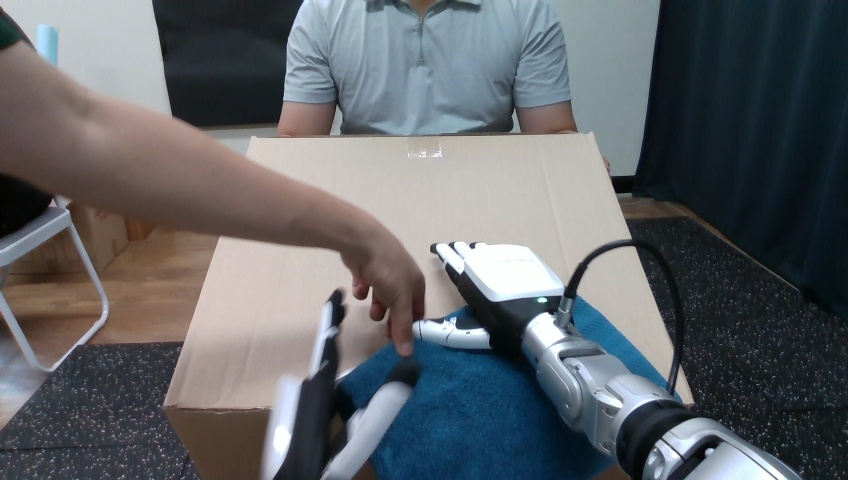left robot hand: (413, 239, 800, 479), (413, 239, 799, 479), (262, 305, 417, 479), (570, 245, 676, 390), (571, 246, 676, 389)
